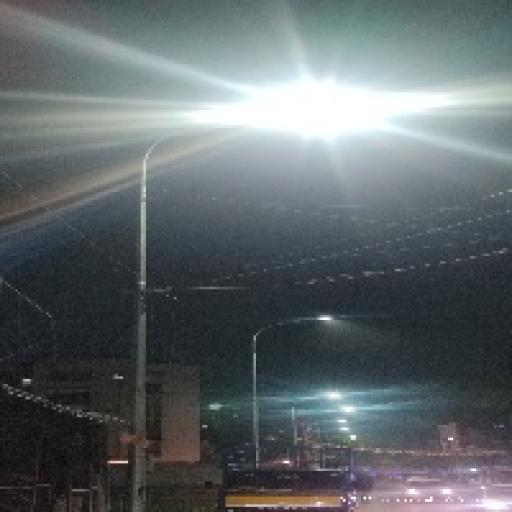Working: (174, 58, 446, 162), (311, 308, 338, 332), (321, 388, 340, 404), (338, 402, 358, 414), (334, 425, 352, 435), (335, 417, 349, 425)
